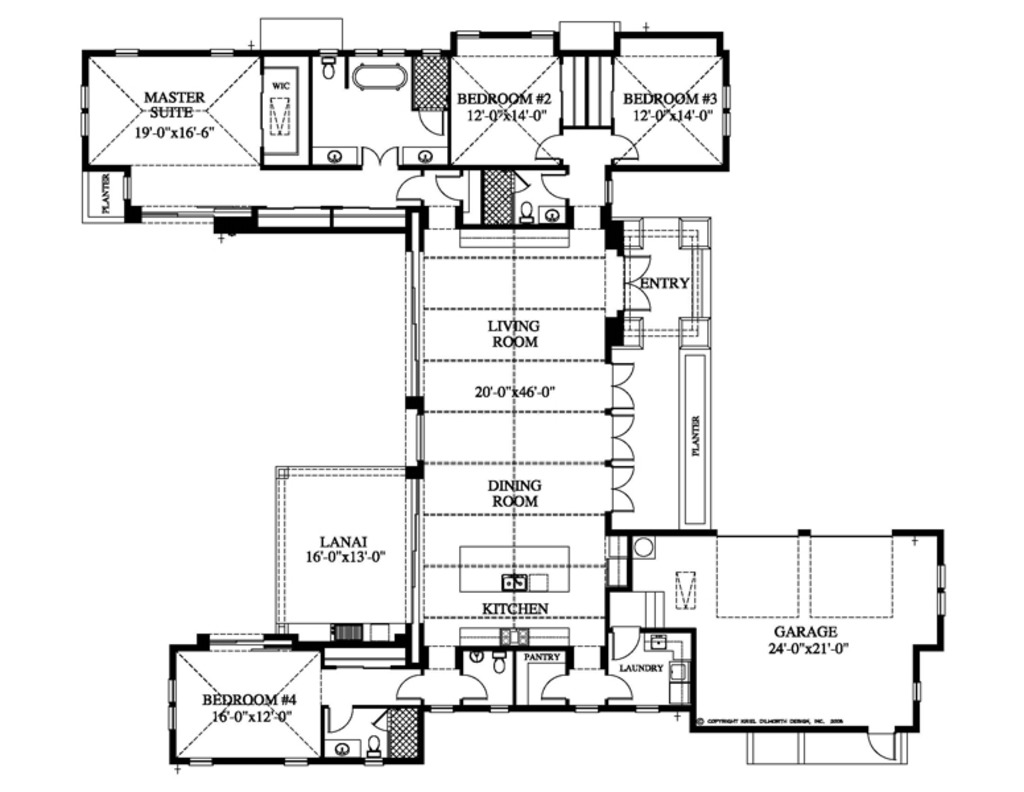door: (610, 364, 640, 408), (628, 254, 651, 309), (615, 414, 640, 463), (362, 143, 398, 173), (609, 628, 641, 660), (866, 730, 898, 760), (436, 175, 463, 208), (616, 468, 634, 515), (535, 133, 562, 164), (459, 672, 485, 701), (395, 673, 423, 699), (397, 173, 423, 199), (615, 134, 641, 160), (606, 673, 633, 698), (421, 107, 445, 133), (539, 678, 568, 699), (328, 707, 352, 730), (544, 177, 570, 197), (374, 708, 386, 731), (516, 173, 527, 195)
large_sink: (513, 198, 540, 228), (323, 55, 342, 79), (492, 651, 506, 677), (369, 736, 383, 754)
small_sink: (313, 144, 352, 162), (325, 742, 360, 761), (405, 146, 439, 161), (541, 207, 566, 226)
tub: (353, 60, 417, 93)
window: (725, 83, 735, 138), (285, 754, 307, 769), (939, 562, 945, 616), (83, 81, 87, 143), (170, 678, 175, 721), (188, 760, 211, 768), (915, 680, 918, 699)
